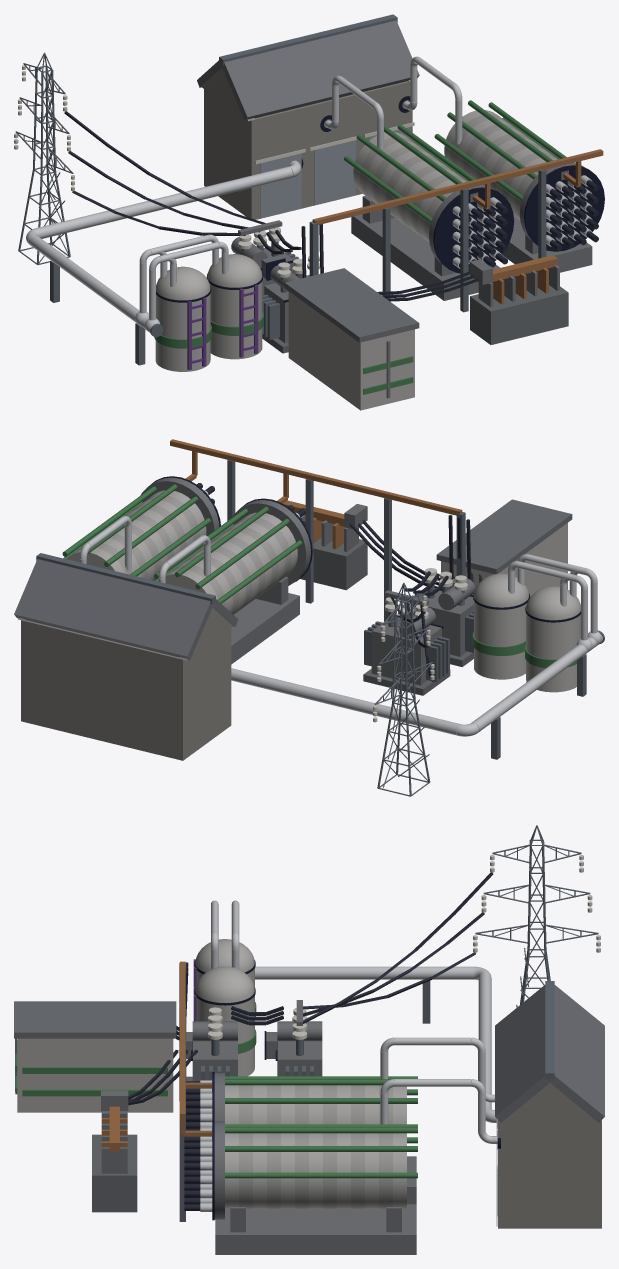
File: electrolyser_lvl2.glb
3 renders of one model, top to bottom at view 1: azimuth 30°, elevation 25°; view 2: azimuth 150°, elevation 25°; view 3: azimuth 270°, elevation 25°, orthographic. The views are drawn at different scales.
Parts seen in each view (by area): view 1: electrolyser; view 2: electrolyser; view 3: electrolyser.
Boxes of the visible parts, <box> form: electrolyser: <box>14,14,604,410</box>; electrolyser: <box>14,439,604,796</box>; electrolyser: <box>14,825,604,1254</box>.
Bounding box in the file's own units: 0.8577 × 0.3608 × 0.8836.
